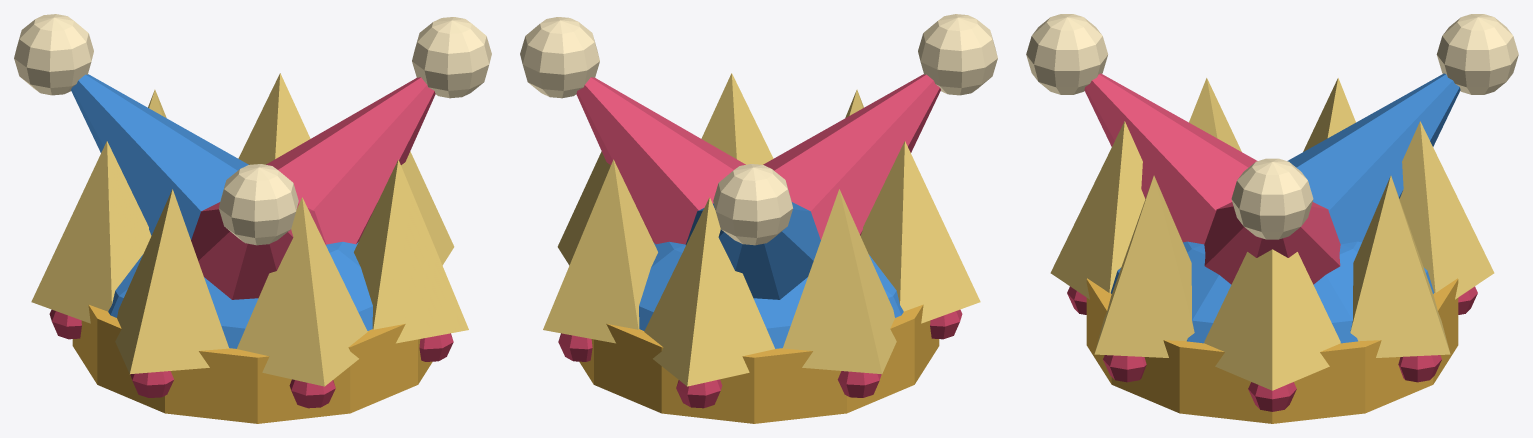
The model's file is wealth-headwear.glb.
3 views of the same model, side by side, from view 1: azimuth 30°, elevation 25°; view 2: azimuth 150°, elevation 25°; view 3: azimuth 270°, elevation 25° (orthographic).
Parts seen in each view (by area): view 1: Crown_Band, Crown_Point_06, Jester_Horn_01, Jester_Horn_02, Crown_Point_05, Crown_Point_07, Crown_Point_04, Jester_Horn_03, Jester_Bell_03, Jester_Bell_01, Jester_Bell_02, Jester_Cap (+6 smaller); view 2: Crown_Band, Crown_Point_03, Jester_Horn_01, Jester_Horn_03, Crown_Point_04, Crown_Point_02, Crown_Point_05, Jester_Horn_02, Jester_Bell_02, Jester_Bell_01, Jester_Bell_03, Jester_Cap (+6 smaller); view 3: Crown_Band, Crown_Point_01, Jester_Horn_02, Jester_Horn_03, Crown_Point_02, Crown_Point_07, Crown_Point_03, Crown_Point_06, Jester_Horn_01, Jester_Bell_01, Jester_Cap, Jester_Bell_02 (+6 smaller).
Boxes of the visible parts, box(x1,y1,x2,y2) form: Crown_Band: box(72, 304, 432, 423); Crown_Point_06: box(237, 197, 367, 386); Jester_Horn_01: box(266, 77, 435, 244); Jester_Horn_02: box(71, 74, 248, 239); Crown_Point_05: box(115, 189, 229, 374); Crown_Point_07: box(354, 159, 468, 343); Crown_Point_04: box(31, 141, 151, 323); Jester_Horn_03: box(191, 202, 326, 299); Jester_Bell_03: box(219, 164, 298, 245); Jester_Bell_01: box(412, 17, 491, 98); Jester_Bell_02: box(14, 14, 93, 95); Jester_Cap: box(108, 241, 372, 348); Crown_Band: box(579, 304, 939, 423); Crown_Point_03: box(644, 197, 774, 386); Jester_Horn_01: box(576, 77, 745, 244); Jester_Horn_03: box(763, 74, 940, 239); Crown_Point_04: box(782, 189, 896, 374); Crown_Point_02: box(543, 159, 657, 343); Crown_Point_05: box(860, 141, 980, 323); Jester_Horn_02: box(685, 202, 820, 299); Jester_Bell_02: box(713, 164, 792, 245); Jester_Bell_01: box(520, 17, 599, 98); Jester_Bell_03: box(918, 14, 997, 95); Jester_Cap: box(639, 241, 903, 348); Crown_Band: box(1086, 278, 1458, 423); Crown_Point_01: box(1204, 249, 1340, 390); Jester_Horn_02: box(1287, 73, 1460, 244); Jester_Horn_03: box(1084, 73, 1257, 244); Crown_Point_02: box(1350, 175, 1450, 357); Crown_Point_07: box(1094, 175, 1194, 357); Crown_Point_03: box(1399, 121, 1494, 299); Crown_Point_06: box(1050, 121, 1145, 299); Jester_Horn_01: box(1204, 202, 1340, 284); Jester_Bell_01: box(1231, 158, 1313, 239); Jester_Cap: box(1110, 241, 1434, 343); Jester_Bell_02: box(1436, 14, 1518, 94).
Size of the model in its own units: 0.4799 by 0.37 by 0.504.
